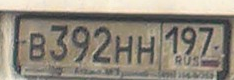character: (91, 25, 113, 67), (48, 24, 69, 62), (70, 24, 90, 63), (136, 34, 157, 67), (28, 31, 48, 62), (115, 35, 135, 66), (197, 26, 215, 57), (164, 25, 180, 55), (181, 26, 197, 56)
